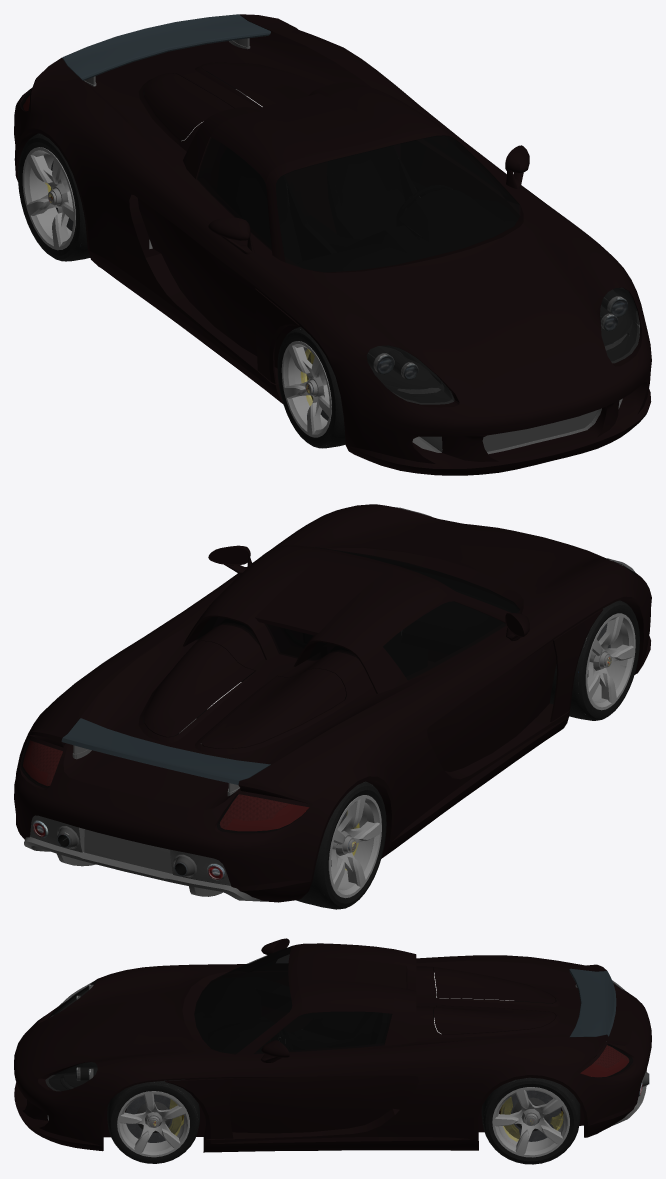
The model's file is escape_car.glb.
3 views of the same model, one above another, from view 1: azimuth 30°, elevation 25°; view 2: azimuth 150°, elevation 25°; view 3: azimuth 270°, elevation 25° (orthographic). The views are drawn at different scales.
Visible parts, largest first — view 1: Glass_1; view 2: Glass_1; view 3: Glass_1.
Part boxes in pixels (x1=…): Glass_1: x1=14, y1=14, x2=651, y2=475; Glass_1: x1=14, y1=504, x2=651, y2=909; Glass_1: x1=14, y1=938, x2=651, y2=1164.
Bounding box in the file's own units: 2.08 × 1.23 × 4.94.
9 materials, 5 textured.
